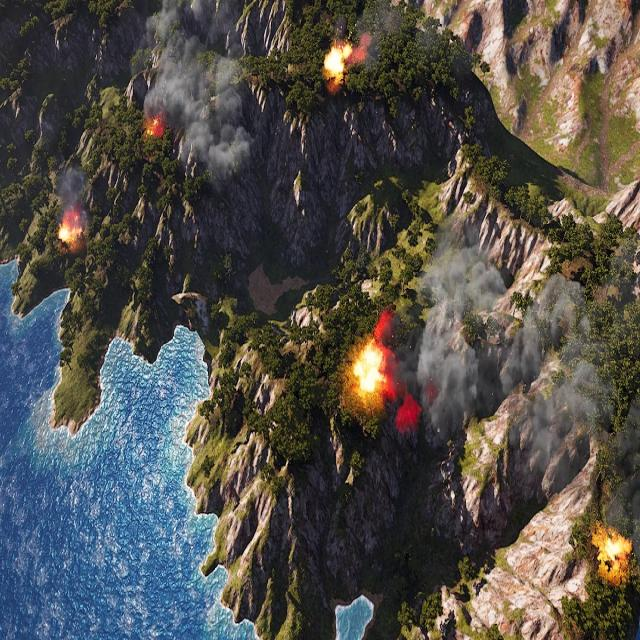fire: (351, 338, 391, 404), (323, 42, 355, 78), (602, 532, 629, 569), (58, 223, 82, 244), (143, 118, 162, 142)
smoke: (376, 202, 640, 561), (144, 0, 258, 181), (342, 2, 404, 79), (52, 146, 91, 230)
